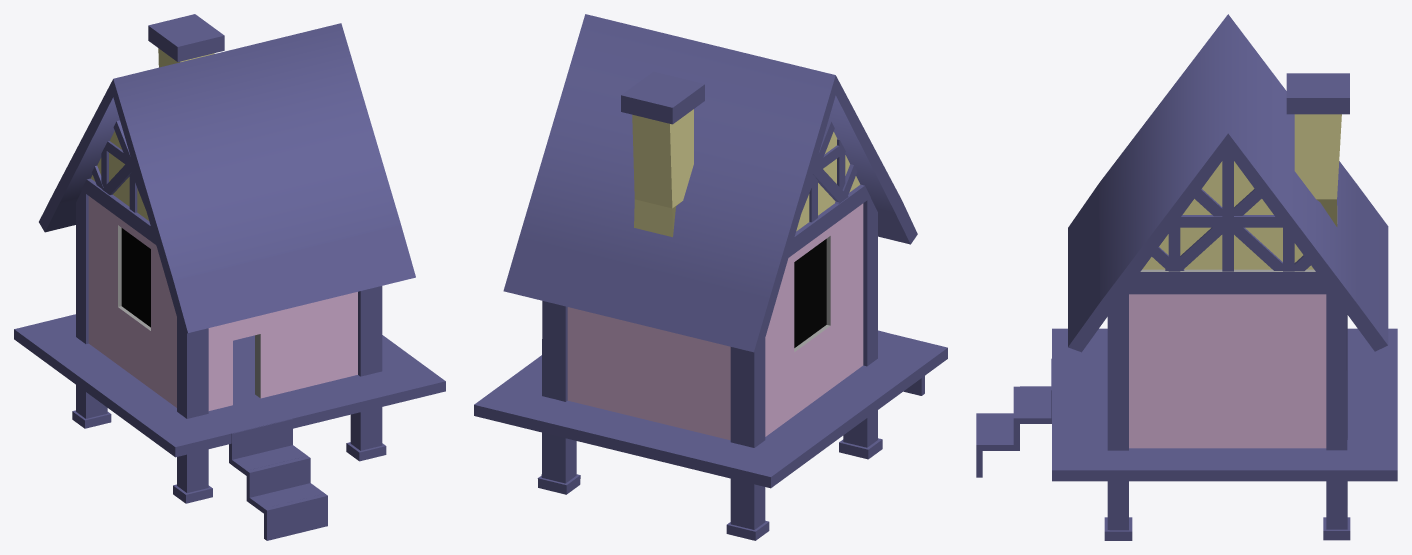
The model's file is house.fbx.
The picture shows the model from 3 angles, left to right: view 1: azimuth 30°, elevation 25°; view 2: azimuth 150°, elevation 25°; view 3: azimuth 270°, elevation 25°; orthographic projection. The views are drawn at different scales.
Parts seen in each view (by area): view 1: polySurface15; view 2: polySurface15; view 3: polySurface15.
Boxes of the visible parts, x1,y1,x2,y2 form: polySurface15: [14, 14, 445, 540]; polySurface15: [474, 14, 947, 540]; polySurface15: [976, 14, 1397, 540].
Bounding box in the file's own units: 12.46 × 17.01 × 15.69.
